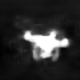plane: (20, 28, 71, 63)
